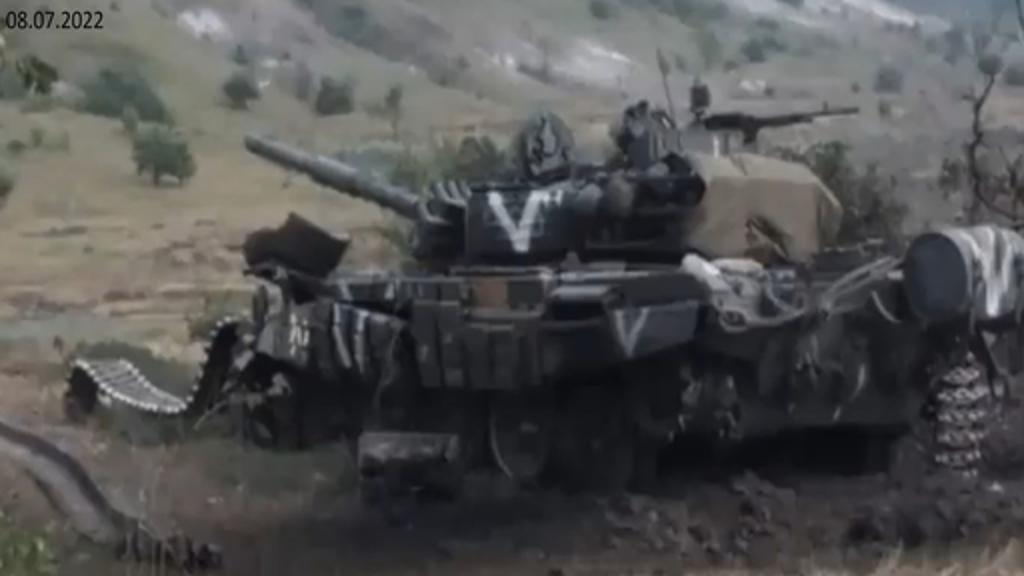TANK: (222, 96, 1004, 490)
